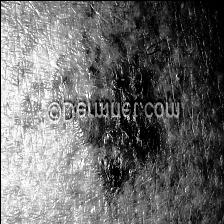Potentially Malignant Skin Tumors: (56, 39, 154, 195)
